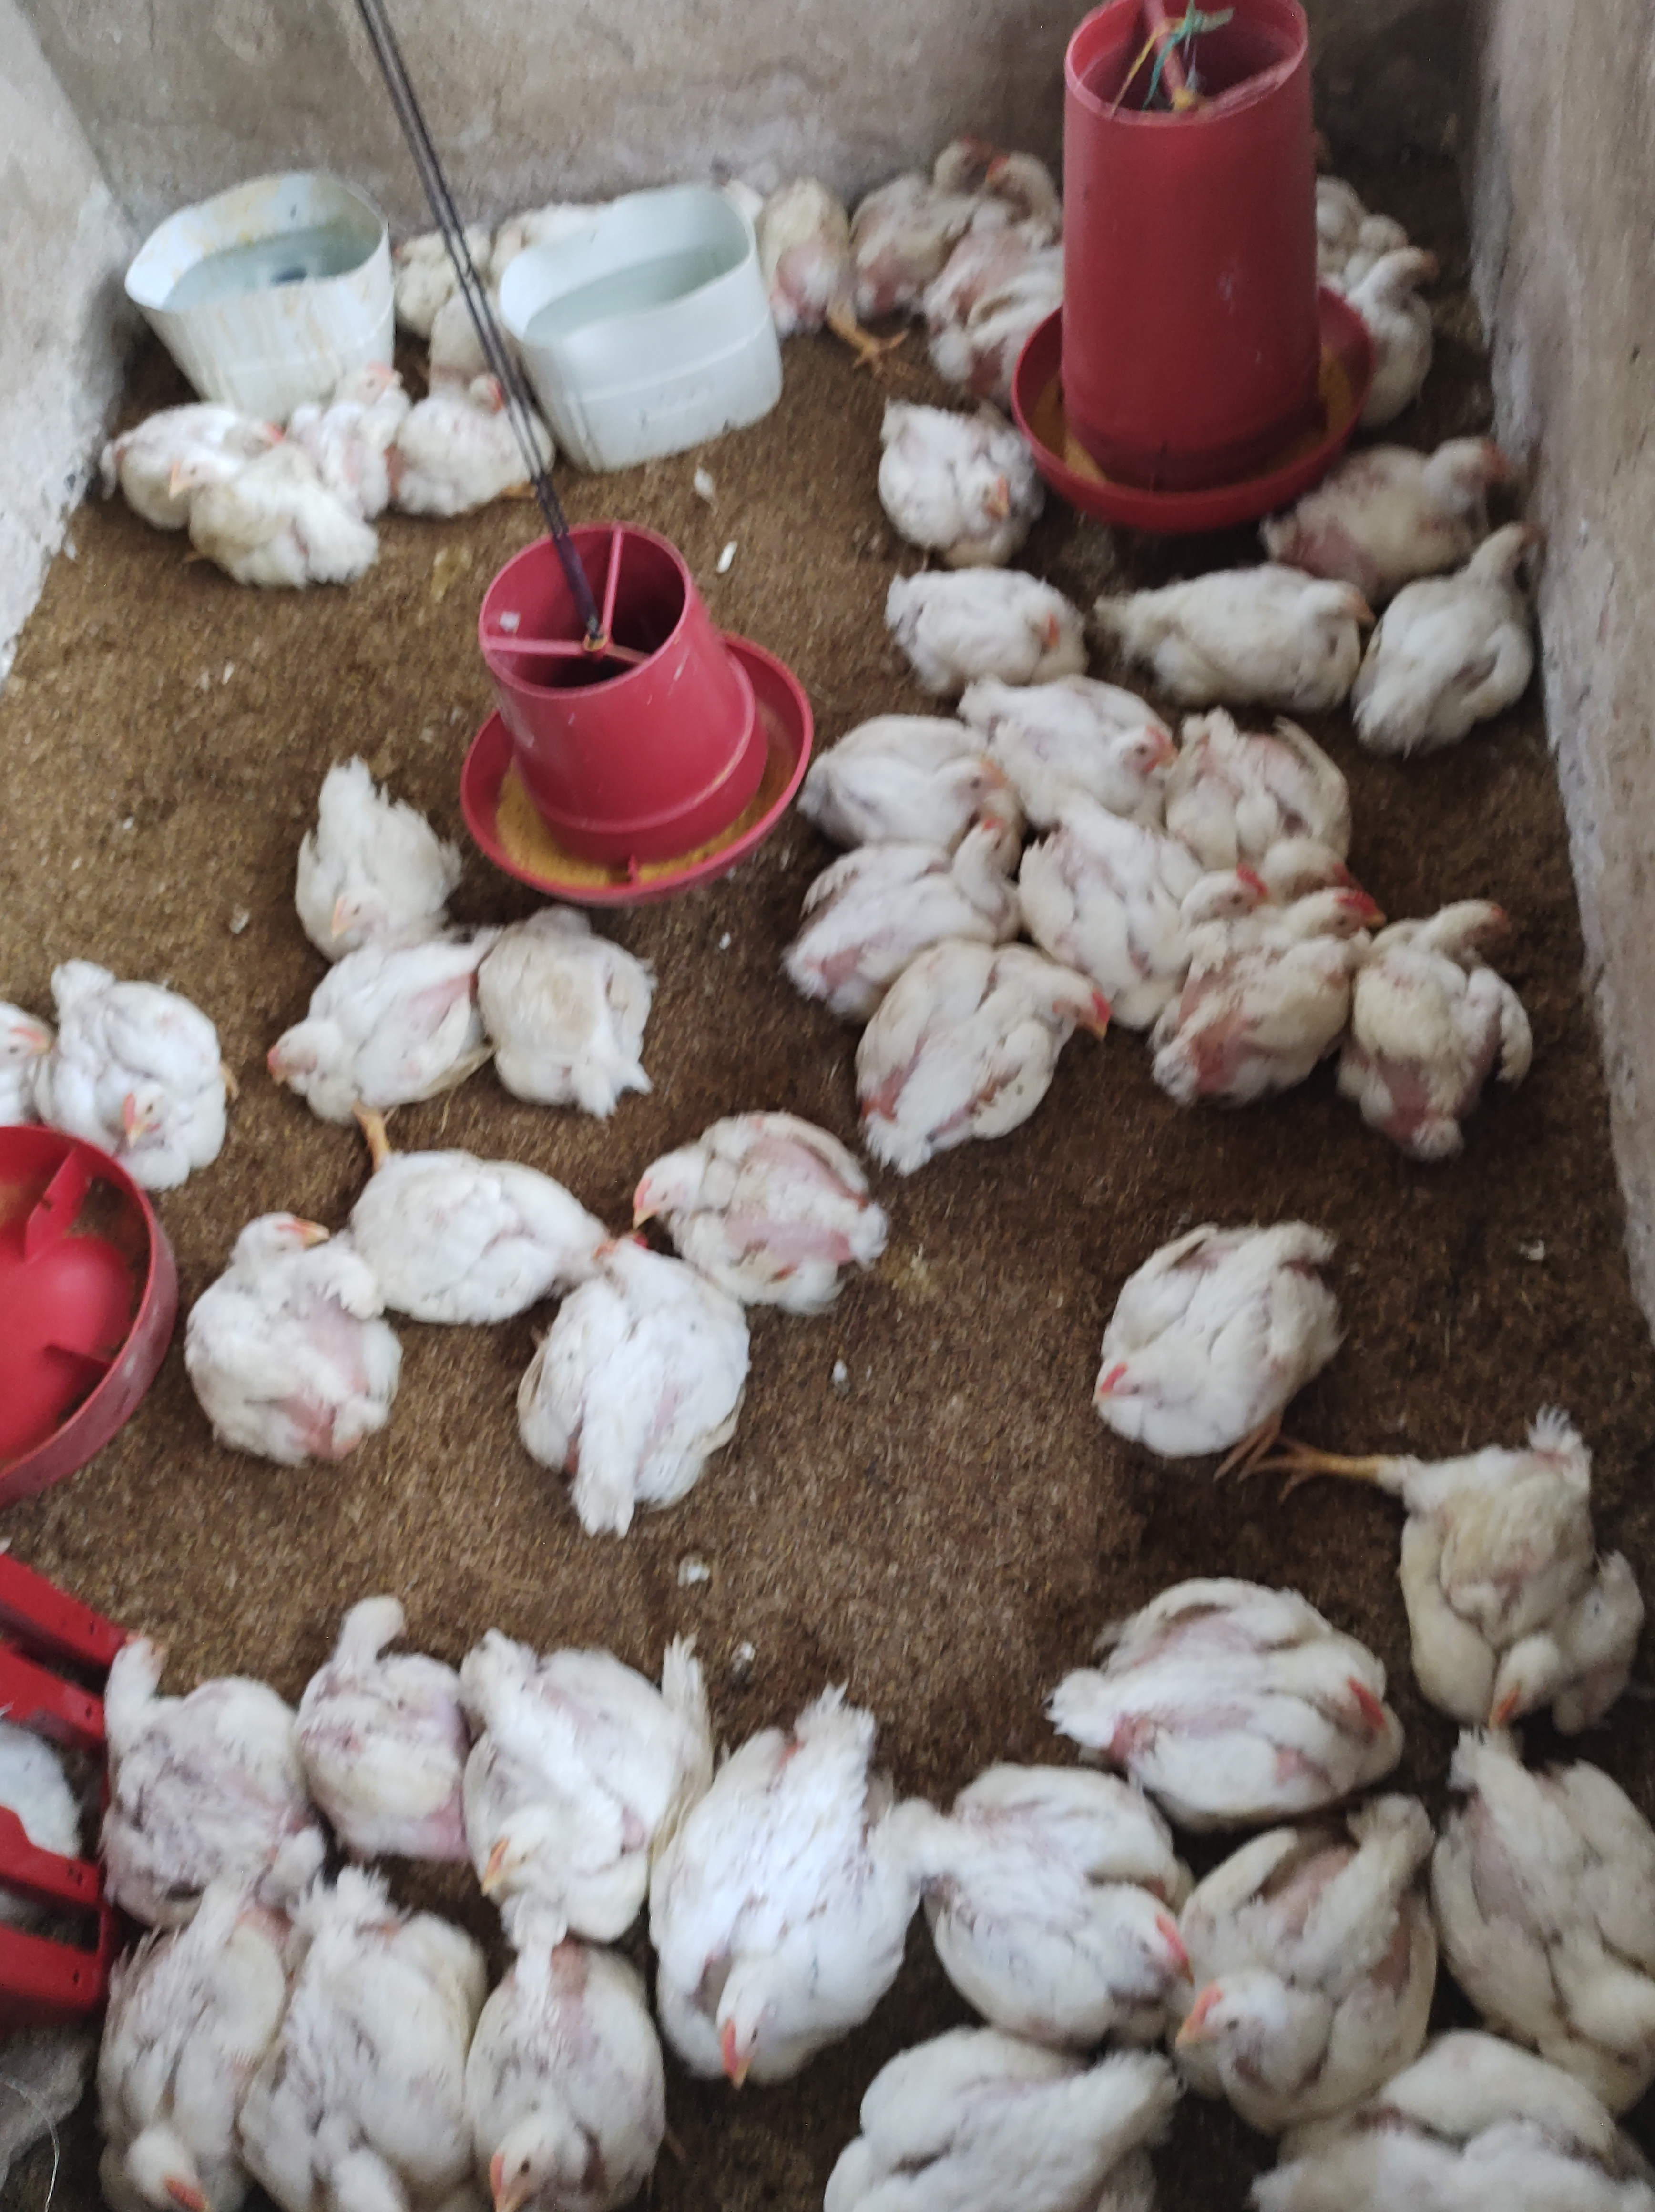Pollos: (664, 1702, 918, 2080), (1373, 1412, 1648, 1723), (901, 1779, 1193, 2047), (1092, 1574, 1403, 1802), (1090, 1203, 1359, 1466), (1452, 1730, 1655, 2069), (1187, 1807, 1427, 2090), (525, 1240, 761, 1518), (271, 1892, 471, 2212), (473, 1628, 664, 1937), (1361, 882, 1547, 1179), (469, 1948, 671, 2212), (259, 922, 482, 1156), (840, 2057, 1187, 2207), (1351, 515, 1565, 753), (855, 955, 1100, 1155), (28, 946, 236, 1181), (341, 1155, 628, 1325), (103, 1628, 306, 1868), (635, 1108, 878, 1308), (1194, 882, 1408, 1108), (296, 1591, 482, 1850), (181, 1209, 377, 1447), (96, 1906, 250, 2207), (1118, 556, 1373, 711), (814, 814, 1034, 981), (482, 922, 669, 1109), (1302, 412, 1530, 567), (1173, 718, 1363, 896), (285, 746, 450, 934), (874, 396, 1038, 577), (753, 148, 881, 377), (888, 562, 1097, 699), (172, 454, 362, 595), (975, 130, 1097, 350), (1337, 226, 1467, 424), (92, 372, 283, 492), (827, 715, 998, 829), (1001, 683, 1170, 796), (419, 376, 544, 515), (360, 209, 489, 313), (895, 125, 1000, 219), (323, 348, 402, 449), (1180, 854, 1264, 929)
